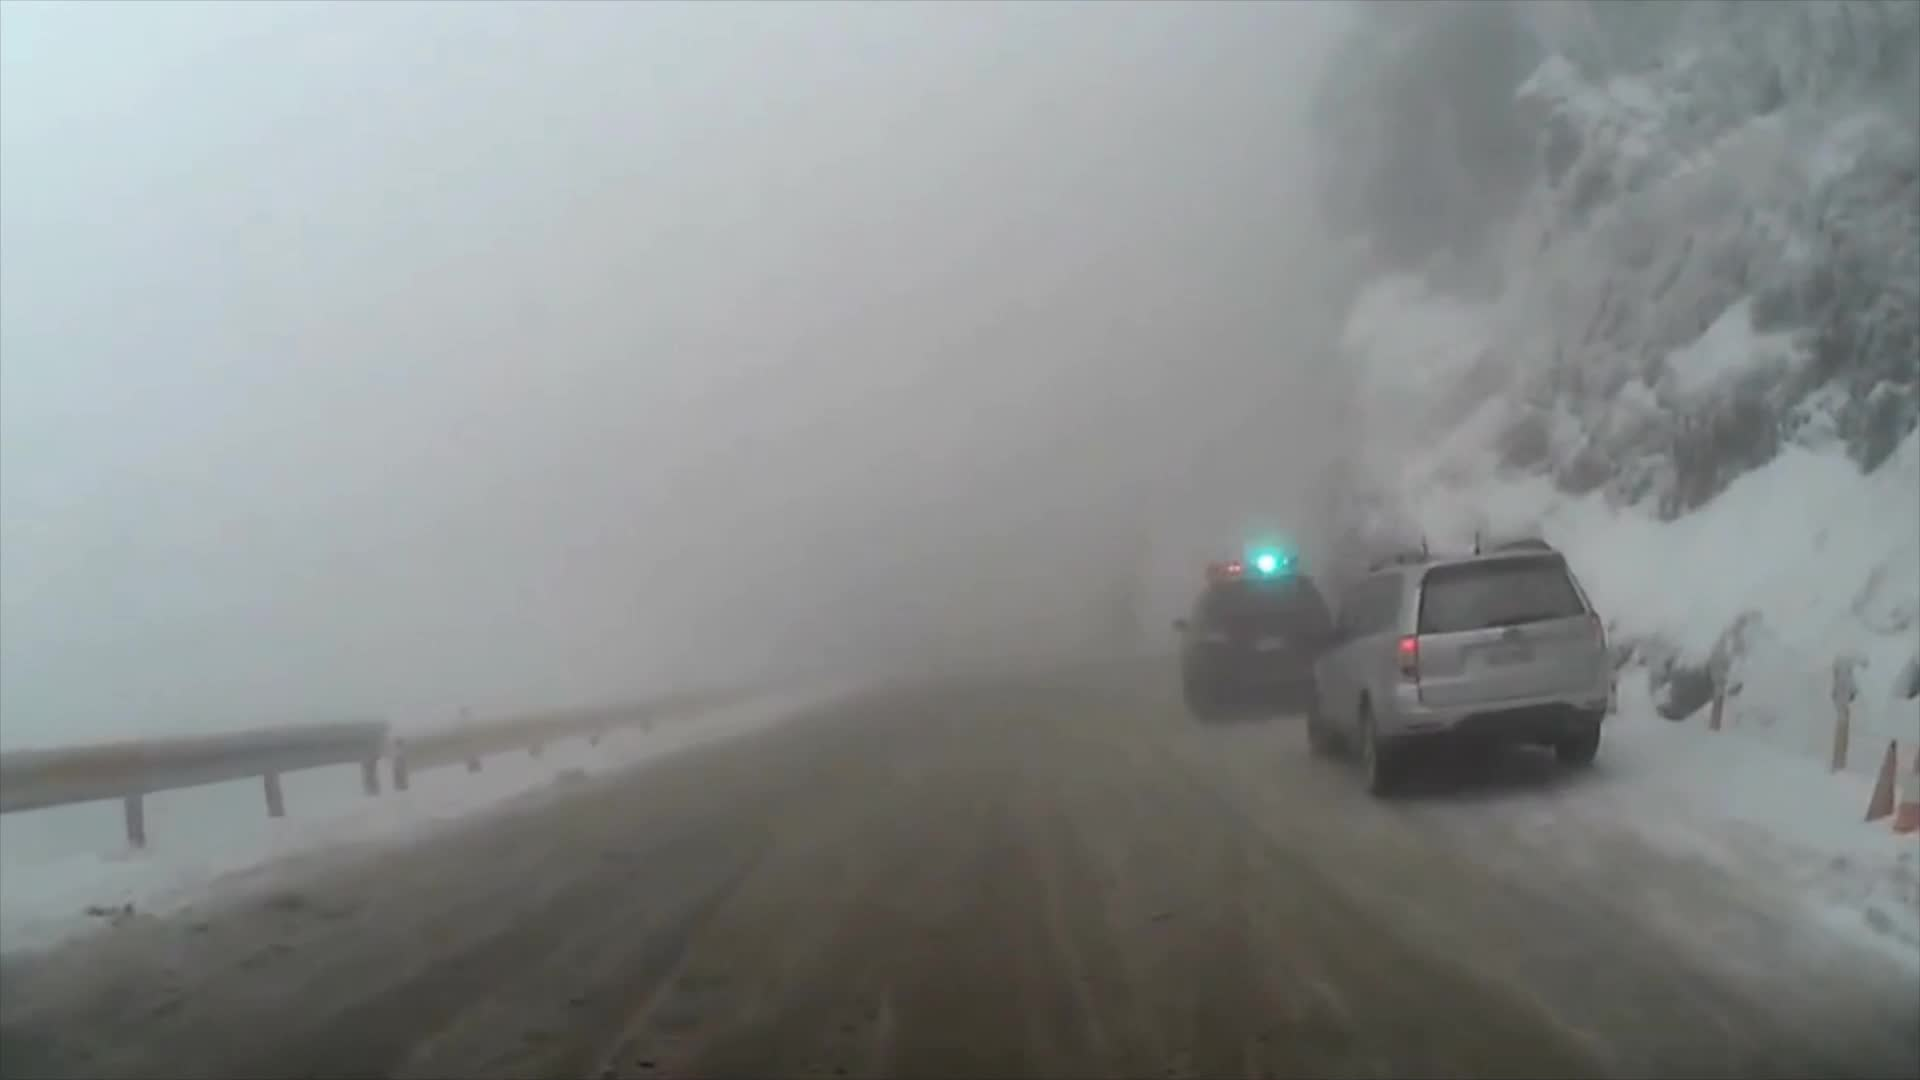vehicle: (1302, 537, 1613, 802), (1170, 553, 1338, 723)
